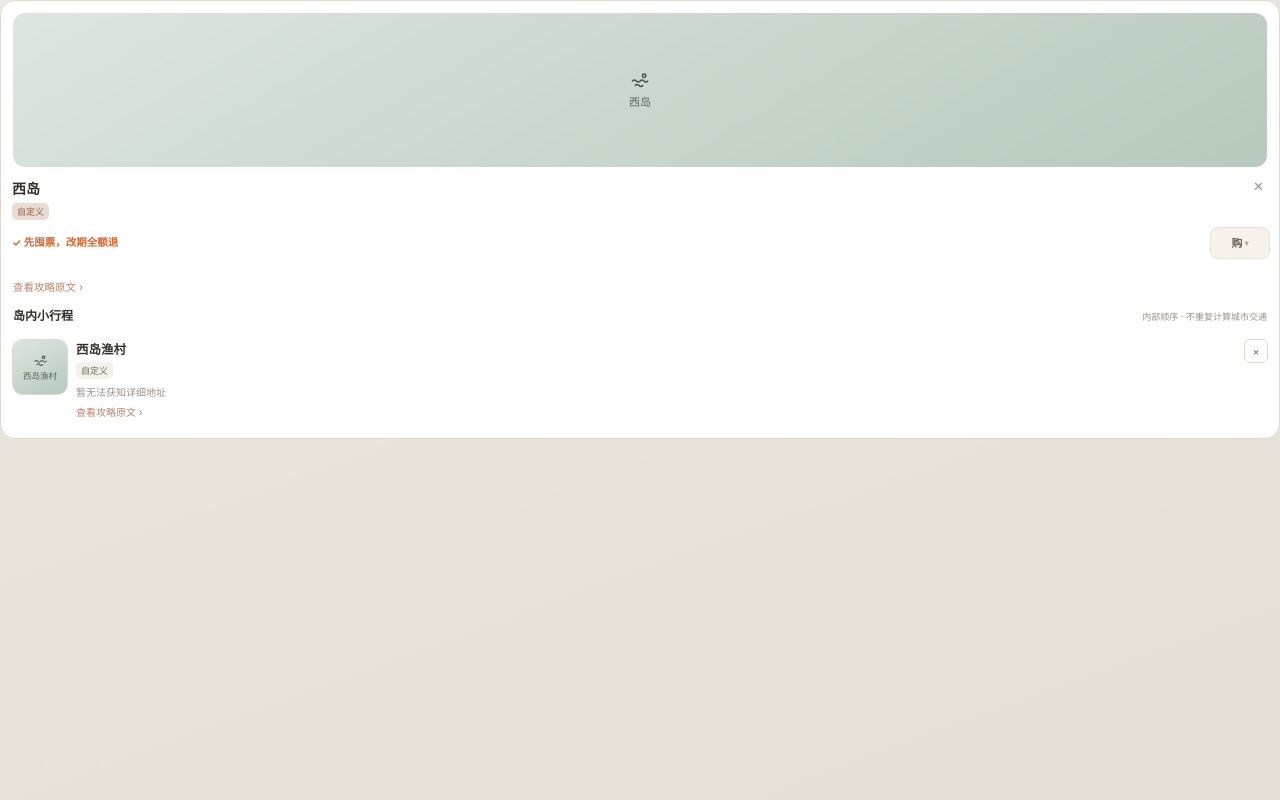
Test: VisitCard 大景点原文入口（任务 124 外链语义） › 多来源：点击灰色入口弹极简来源列表（只列标题与打开原文），不弹 EvidenceSheet
Click the button with class "evidence-link" at (48, 288), box [13, 280, 83, 296]
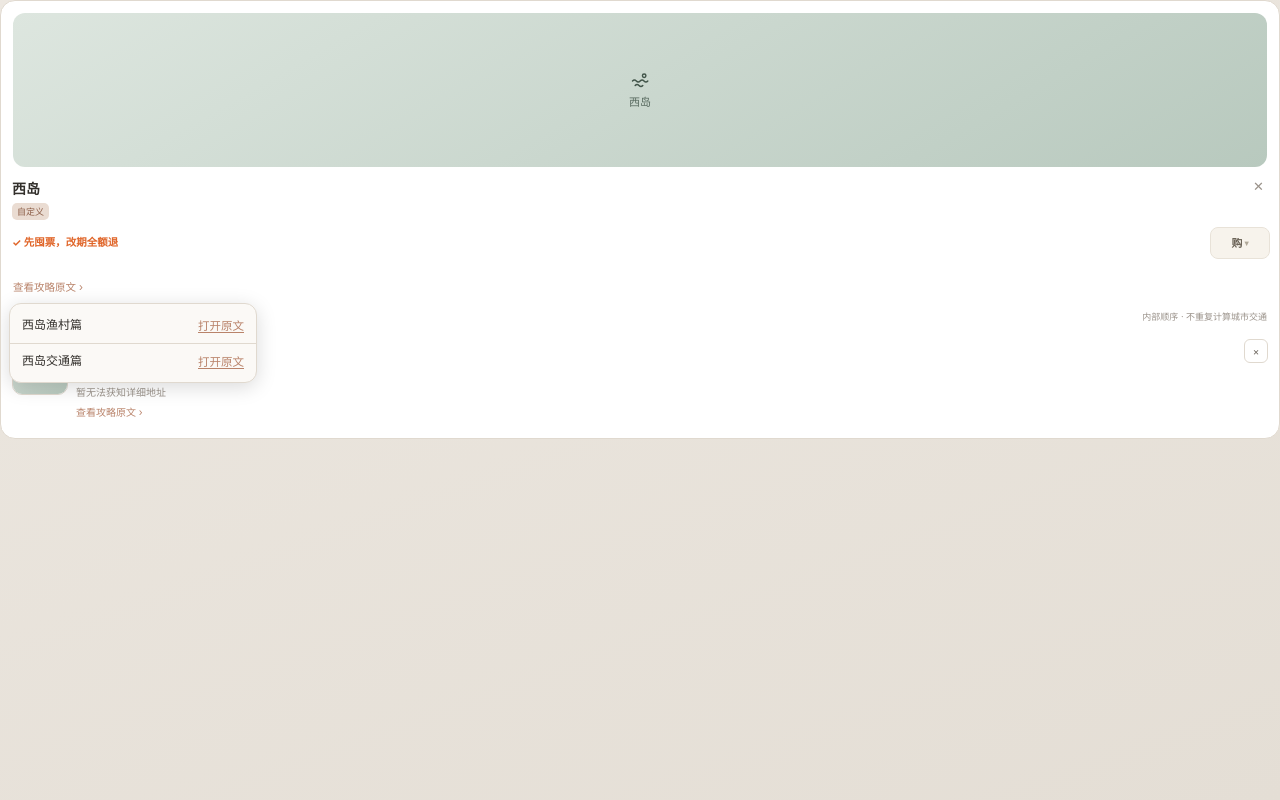
Check: the menu with class "source-menu" is shown, box [9, 303, 257, 383]
Check: the text "西岛渔村篇" is shown, box [22, 317, 82, 332]
Check: the text "西岛交通篇" is shown, box [22, 352, 82, 368]
Click the element with class "purchase-menu-overlay" at (640, 219), box [1, 1, 1279, 438]
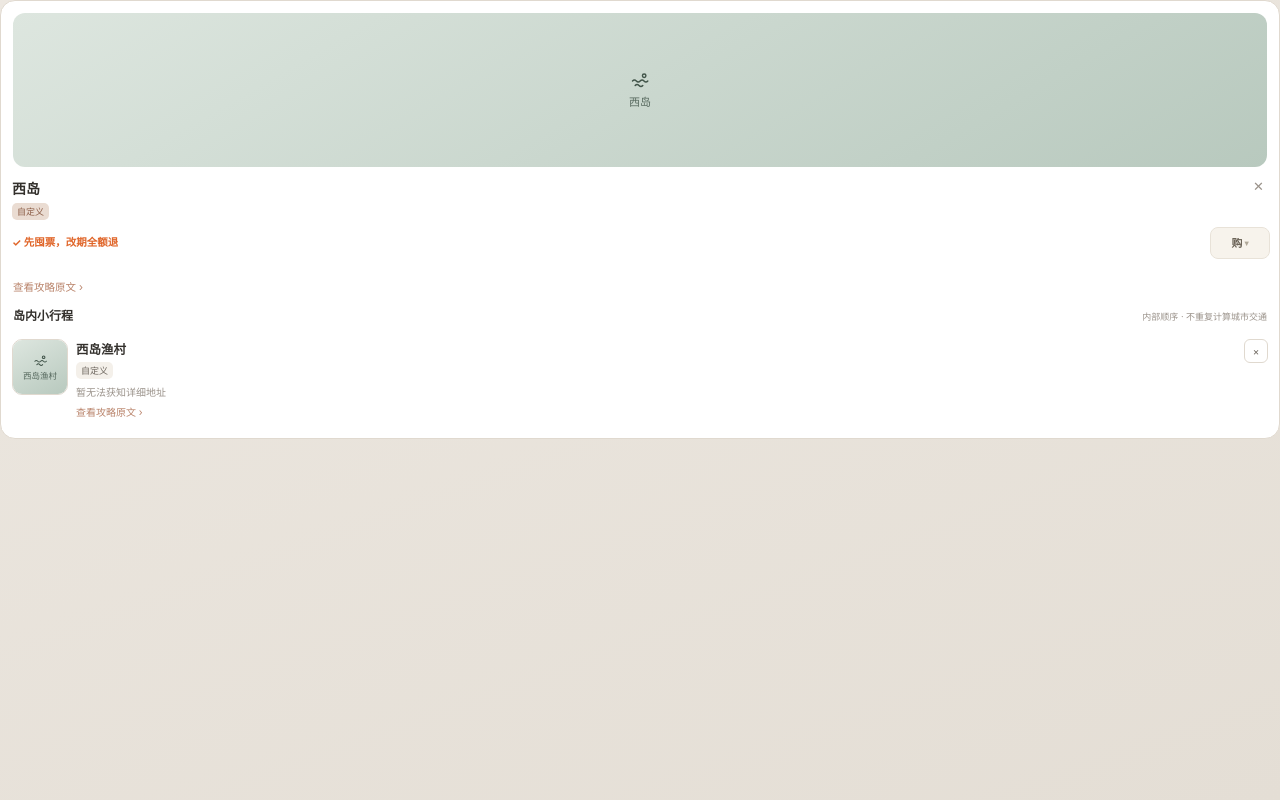
Check: the menu with class "source-menu" is gone
